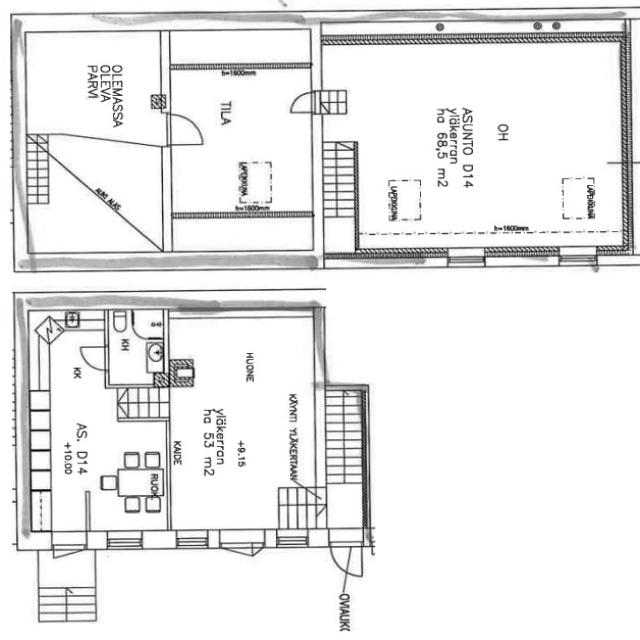door: (326, 540, 364, 578), (166, 111, 206, 147), (49, 533, 88, 565), (221, 534, 261, 562), (77, 343, 110, 373), (285, 88, 316, 115)
window: (556, 245, 602, 270), (446, 248, 488, 270), (175, 528, 212, 550)
zone: (322, 42, 624, 253), (168, 306, 330, 534), (23, 32, 166, 250), (24, 385, 172, 532), (170, 66, 310, 215), (106, 308, 167, 388), (175, 530, 214, 550)
